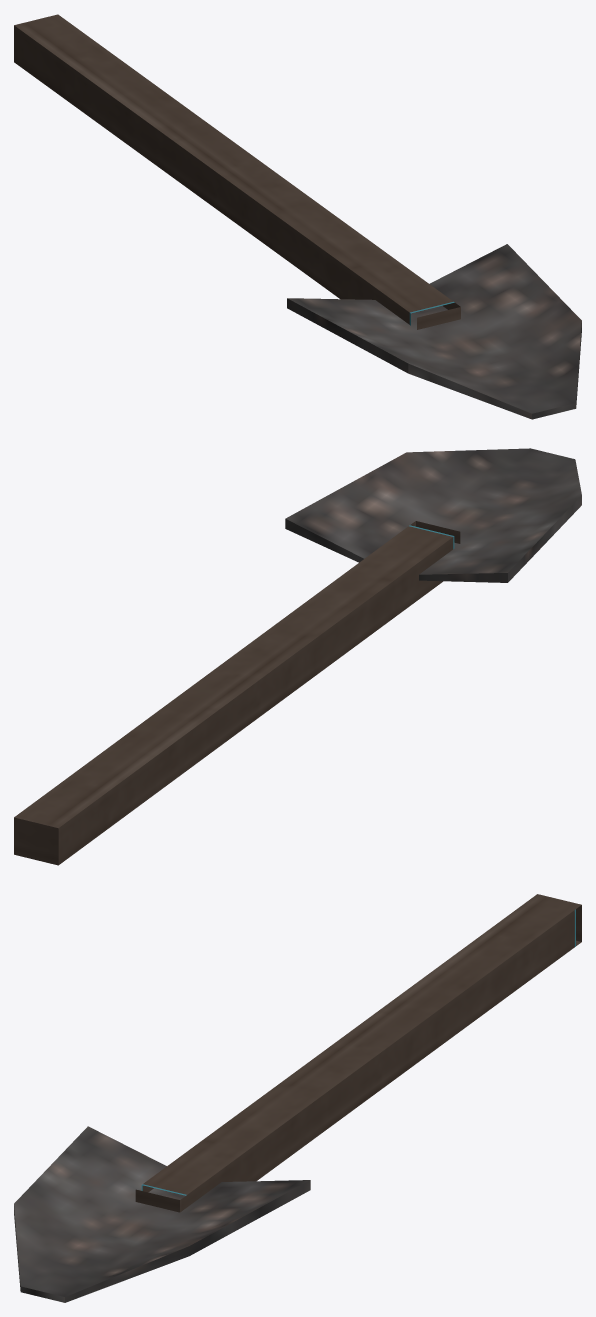
Rendered from LoveDeath_Shovel_Art.glb.
The picture shows the model from 3 angles, top to bottom: view 1: azimuth 30°, elevation 25°; view 2: azimuth 150°, elevation 25°; view 3: azimuth 330°, elevation 25°; orthographic projection.
Parts seen in each view (by area): view 1: LoveDeath_Shovel_Art; view 2: LoveDeath_Shovel_Art; view 3: LoveDeath_Shovel_Art.
Part boxes in pixels (x1,y1,x2,y2): LoveDeath_Shovel_Art: (14,14,581,419); LoveDeath_Shovel_Art: (14,448,581,865); LoveDeath_Shovel_Art: (14,894,581,1302).
Size of the model in its own units: 0.6743 by 0.1427 by 2.73.
Materials: 1 (1 with a texture image).
